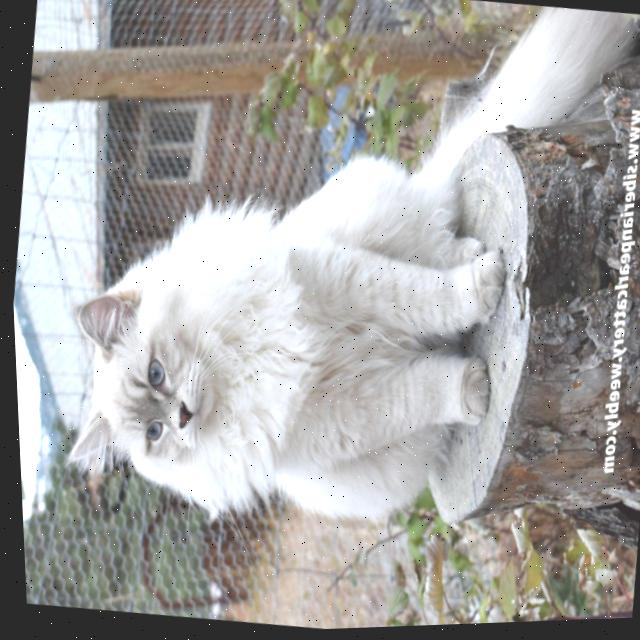Neva Masquerade: (30, 0, 640, 577)
